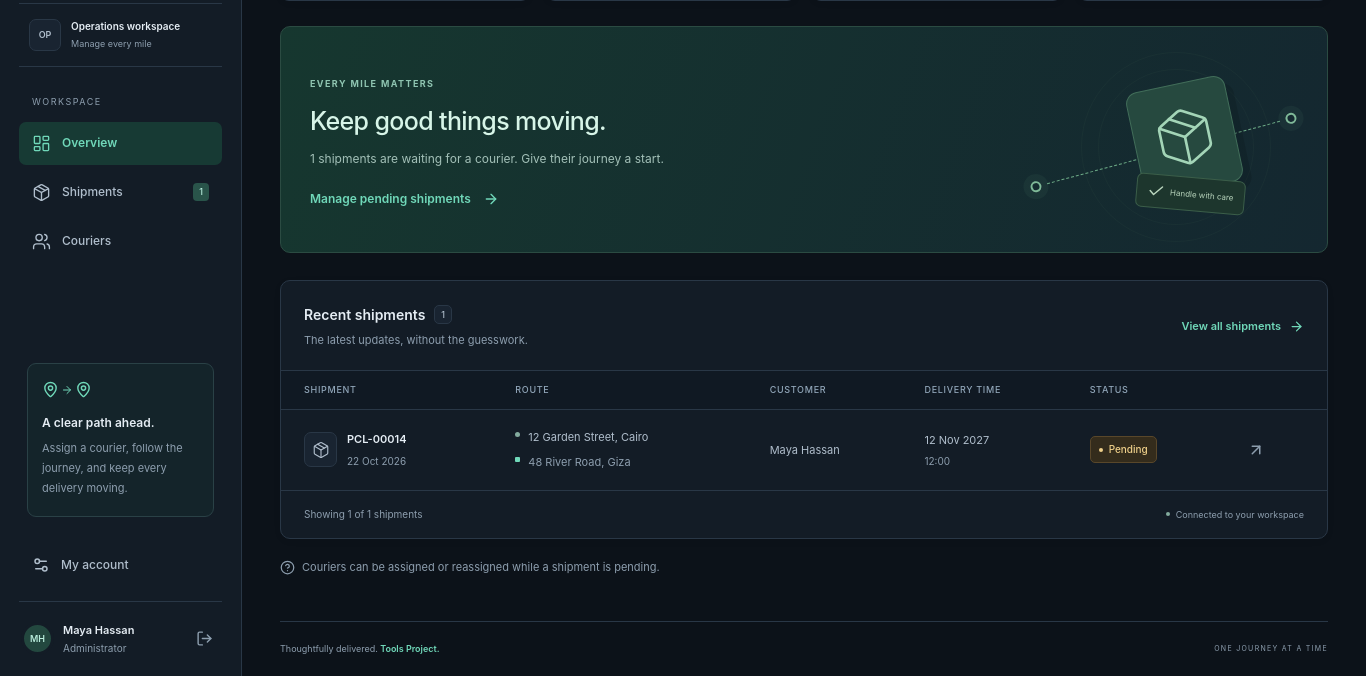
Test: Tools Project workflows › lets an admin assign a courier and advance a delivery one step
(page scrolled)
Step 1. Click the button named "View PCL-00014" → [1256, 450], box [1240,434,1272,466]
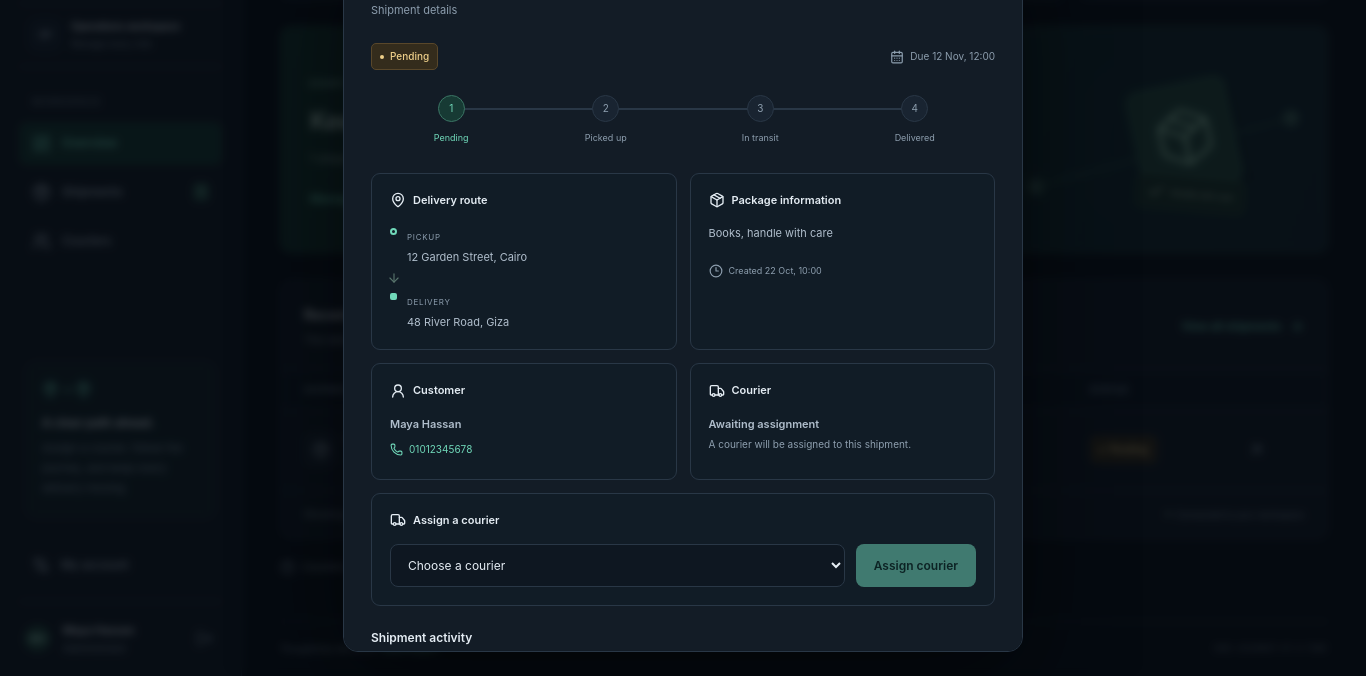
Step 2. Select "Ali Omar" in the dropdown named "Choose a courier" → [618, 566], box [390,544,845,587]
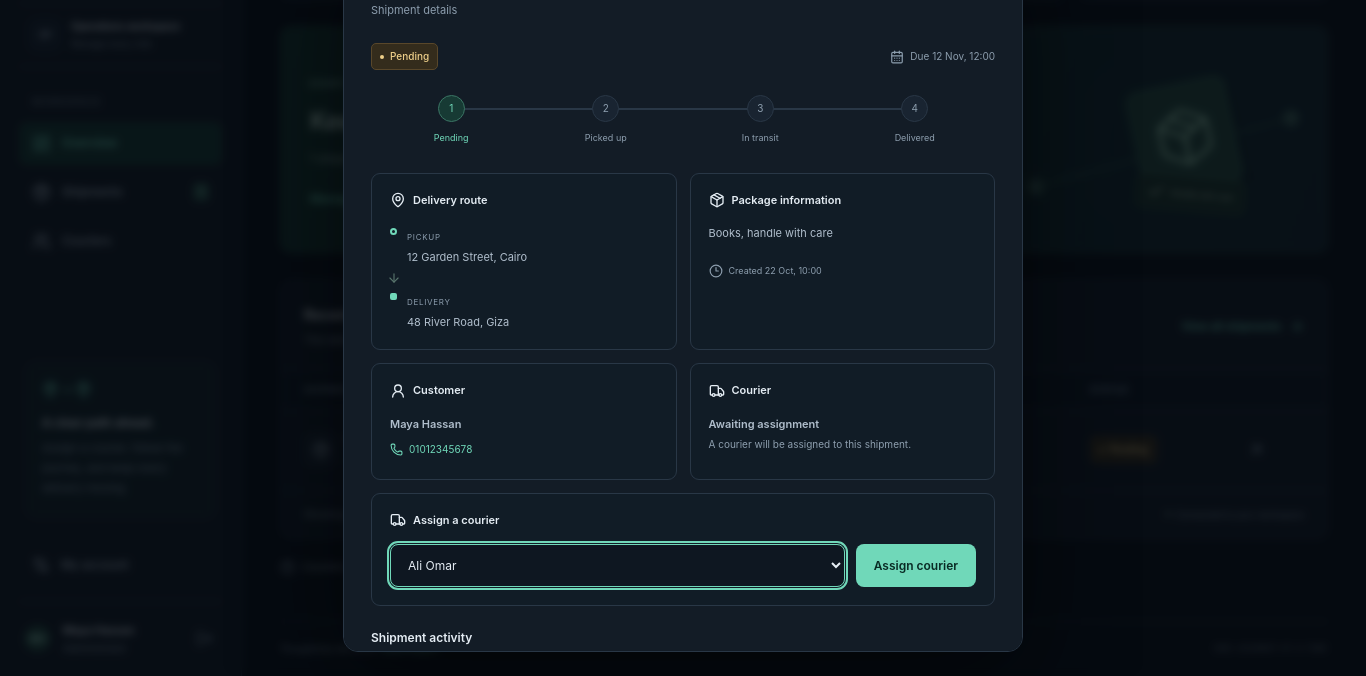
Step 3. Click the button "Assign courier" → [916, 566], box [856,544,976,587]
(page scrolled)
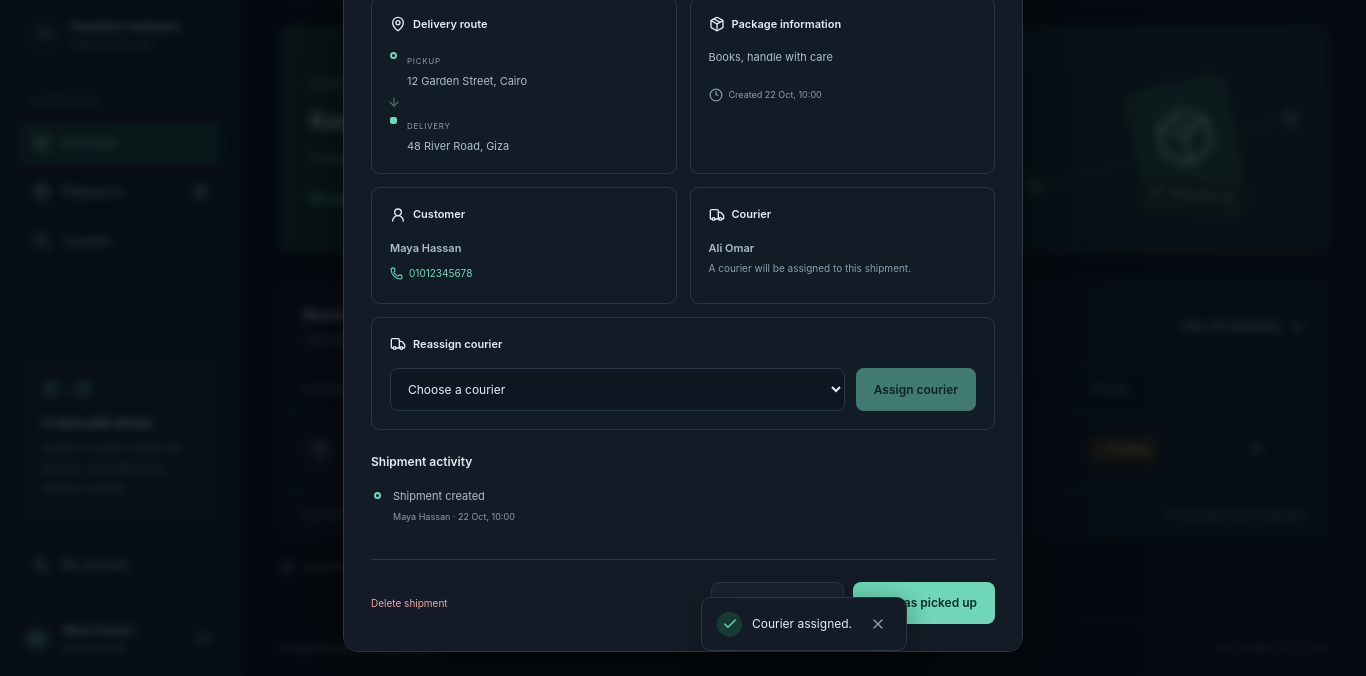
expect the text "Courier assigned." is shown: met, box [701,597,907,651]
Step 4. Click the button "Mark as picked up" → [924, 603], box [853,582,995,624]
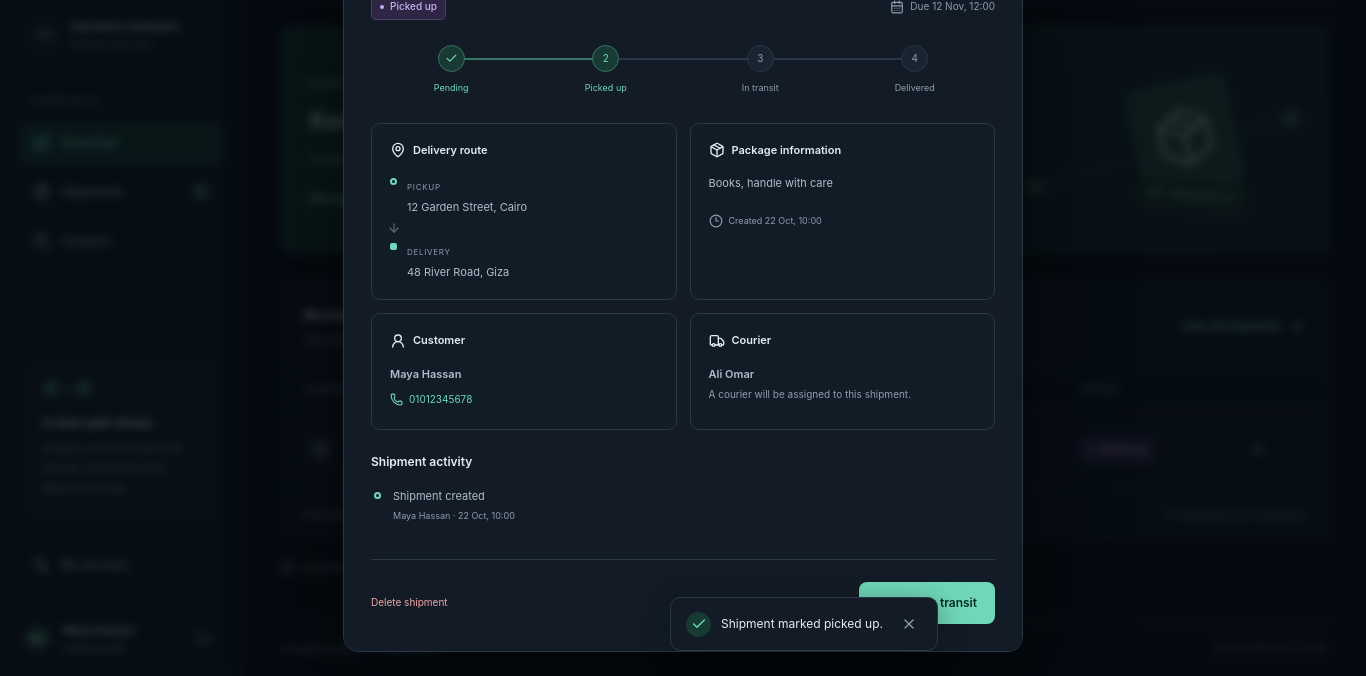
expect the button "Mark as in transit" is shown: met, box [859,582,995,624]
